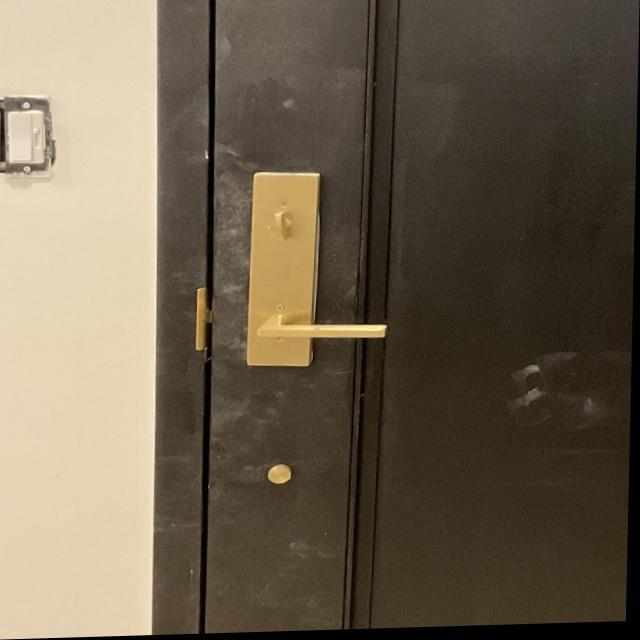door_handle: (234, 307, 410, 355)
